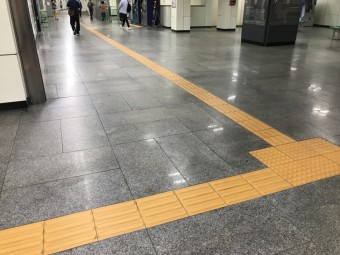guideBlock: (88, 206, 154, 238), (44, 217, 95, 247), (175, 184, 230, 211), (133, 194, 184, 223), (214, 179, 258, 212), (1, 229, 45, 255), (246, 165, 284, 195)
warningBlock: (303, 155, 340, 180), (276, 161, 315, 184), (282, 142, 318, 158), (256, 148, 288, 164), (305, 134, 330, 148)
